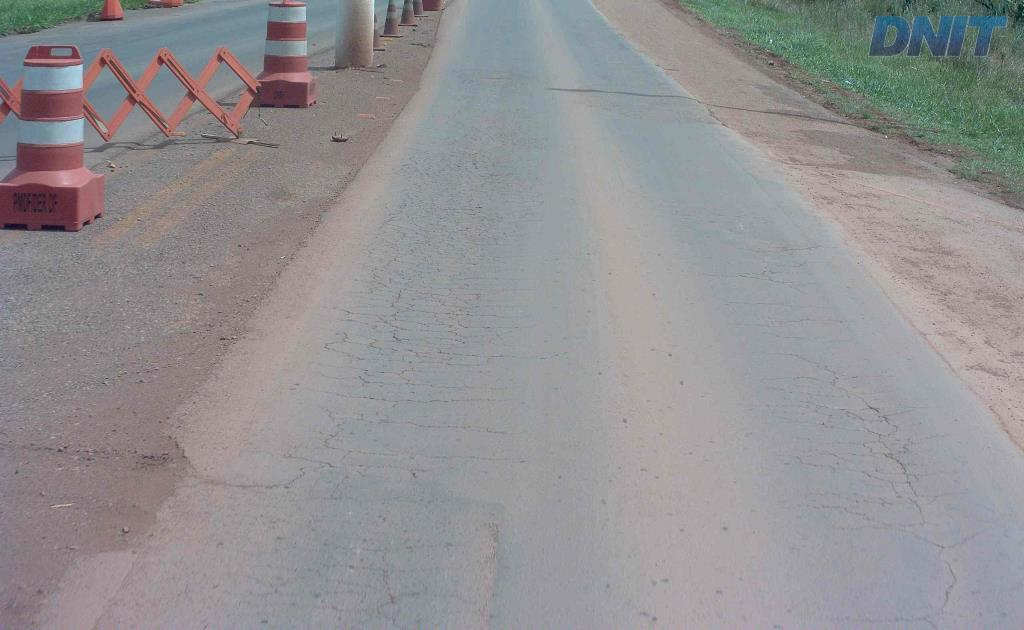crack: (379, 146, 520, 258), (375, 267, 494, 365), (357, 562, 420, 629), (882, 435, 928, 497)
